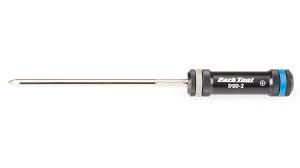screwdriver: (8, 65, 293, 96)
